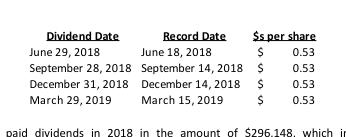table: (28, 29, 314, 105)
table column: (135, 29, 246, 105), (28, 29, 135, 105), (246, 29, 314, 105)
table column header: (28, 29, 314, 43)
table row: (28, 43, 314, 59), (28, 59, 314, 75), (28, 75, 314, 91), (28, 29, 314, 43), (28, 91, 314, 105)
